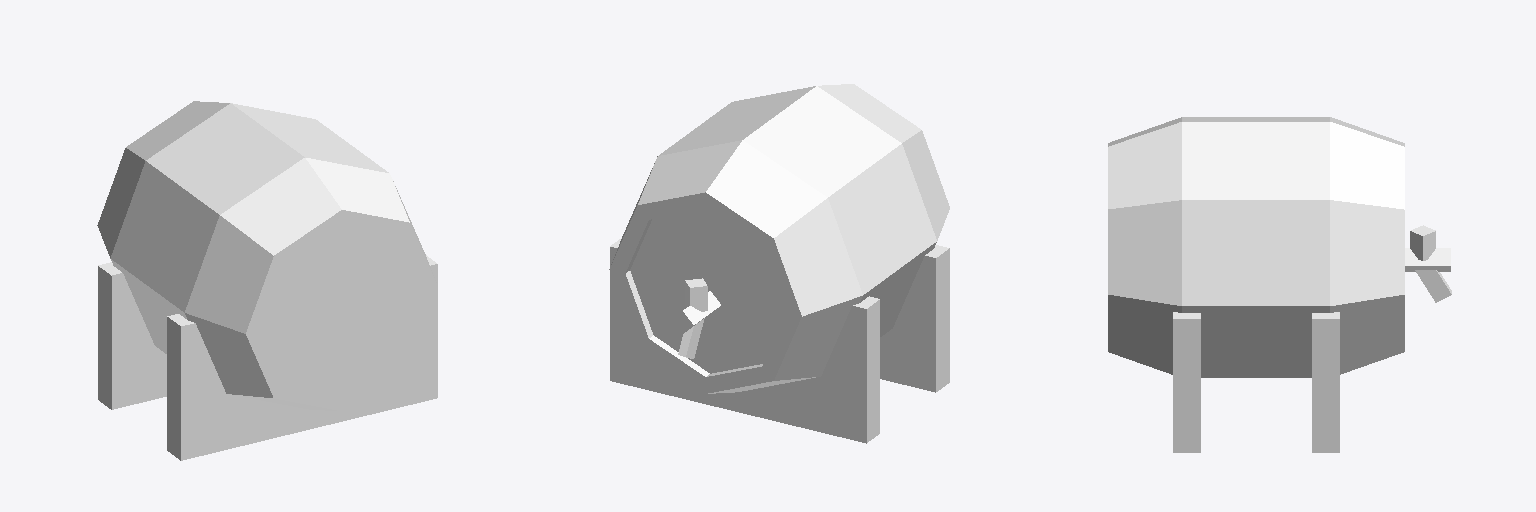
Rendered from barrel_of_wine_horizontal.obj.
3 views of the same model, side by side, from view 1: azimuth 30°, elevation 25°; view 2: azimuth 150°, elevation 25°; view 3: azimuth 270°, elevation 25° (orthographic).
Parts seen in each view (by area): view 1: cylinder, stand2, stand1; view 2: cylinder, stand1, stand2, vane1, vane3, vane2; view 3: cylinder, stand1, stand2, vane1, vane3, vane2.
Boxes of the visible parts, box(x1,y1,x2,y2) form: cylinder: box(97, 101, 437, 410); stand2: box(167, 255, 437, 460); stand1: box(98, 262, 166, 409); cylinder: box(609, 84, 949, 393); stand1: box(610, 238, 879, 443); stand2: box(880, 245, 949, 392); vane1: box(672, 291, 720, 334); vane3: box(685, 278, 707, 311); vane2: box(678, 318, 704, 358); cylinder: box(1108, 117, 1404, 377); stand1: box(1312, 312, 1339, 452); stand2: box(1173, 312, 1200, 452); vane1: box(1405, 248, 1450, 271); vane3: box(1410, 225, 1435, 260); vane2: box(1415, 270, 1451, 302).
Bounding box in the file's own units: 1 × 1 × 1.16.